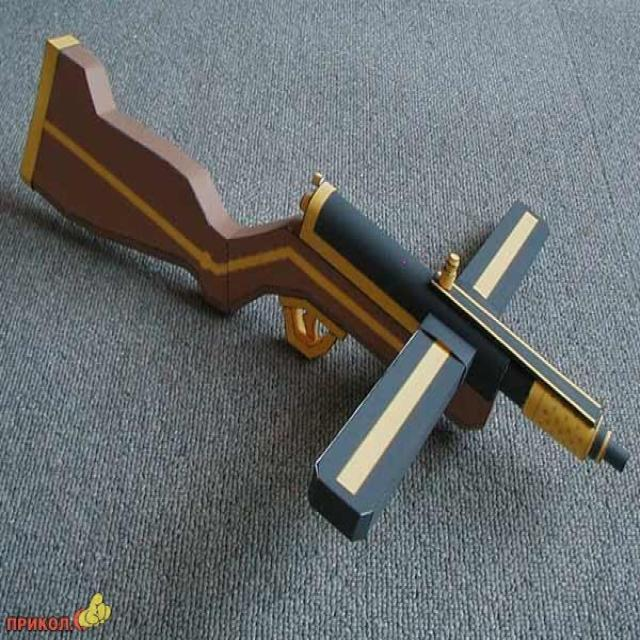firearm: (17, 36, 630, 535)
